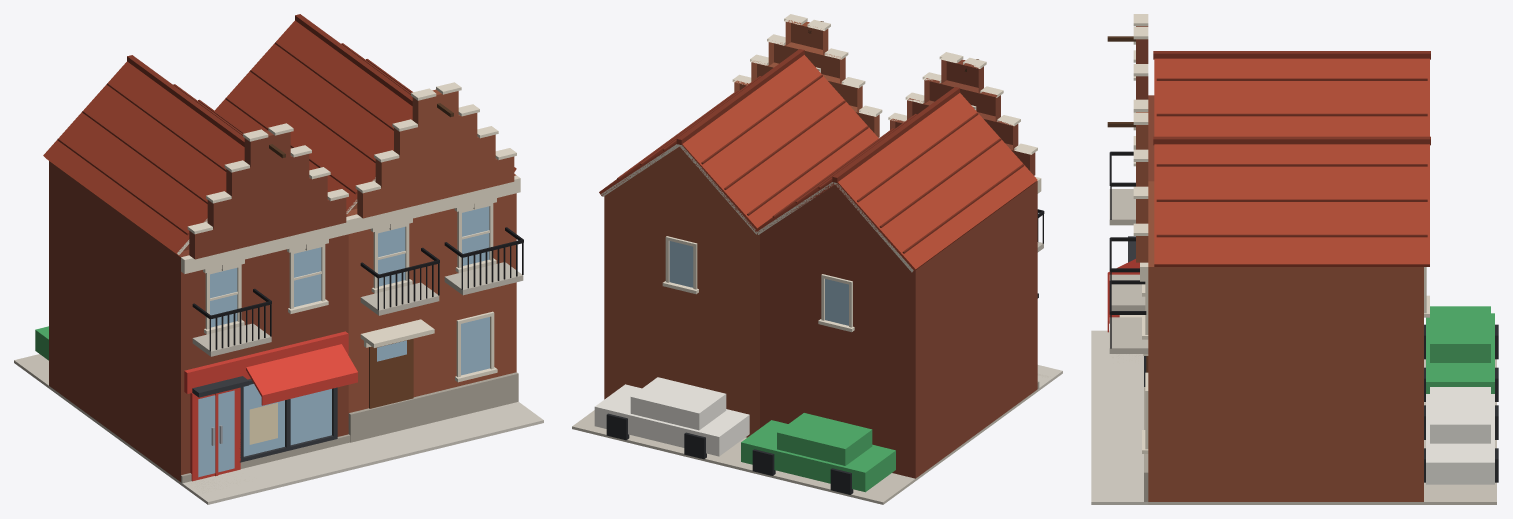
The model's file is Blok_duz_2k_5_Hafif.fbx.
3 views of the same model, side by side, from view 1: azimuth 30°, elevation 25°; view 2: azimuth 150°, elevation 25°; view 3: azimuth 270°, elevation 25° (orthographic). The views are drawn at different scales.
Visible parts, largest first — view 1: Blok_duz_2k_5_Hafif; view 2: Blok_duz_2k_5_Hafif; view 3: Blok_duz_2k_5_Hafif.
Part boxes in pixels (<box>): Blok_duz_2k_5_Hafif: <box>14,14,543,504</box>; Blok_duz_2k_5_Hafif: <box>572,14,1062,504</box>; Blok_duz_2k_5_Hafif: <box>1091,14,1498,504</box>.
Bounding box in the file's own units: 10.18 × 9.6 × 10.04.
